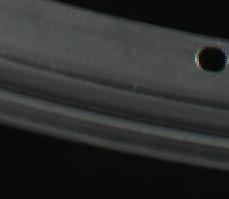holes: (192, 44, 228, 74)
